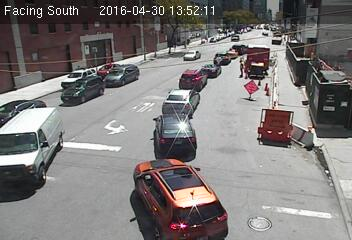neg: (236, 132, 257, 161), (81, 71, 100, 95), (173, 176, 191, 199), (173, 115, 189, 137), (127, 119, 142, 139), (275, 121, 290, 140), (153, 39, 168, 58), (32, 120, 45, 138), (193, 30, 205, 47), (42, 74, 54, 90), (236, 27, 247, 42)
pos: (235, 58, 249, 78)
